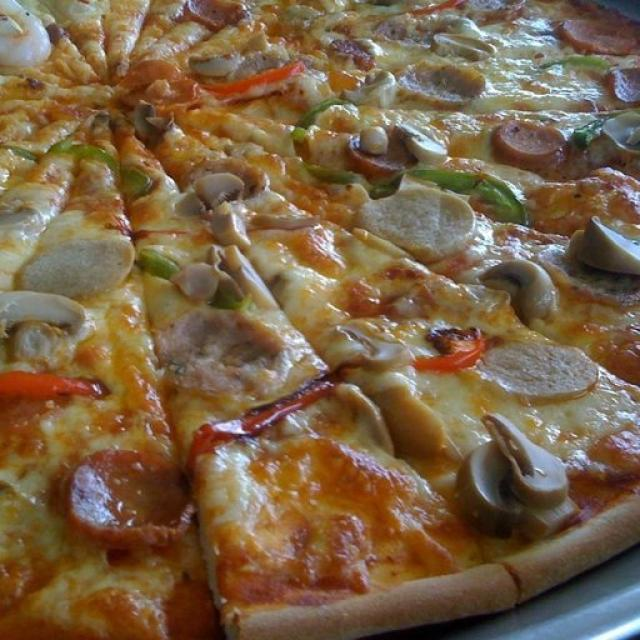Green Pepper: (0, 139, 154, 190), (421, 162, 528, 220), (299, 94, 335, 139), (539, 56, 608, 72), (142, 247, 177, 277), (212, 289, 264, 307)
Ham: (167, 314, 284, 392), (489, 342, 595, 397), (367, 193, 470, 248), (31, 242, 130, 291)
Mushrooms: (469, 414, 578, 527), (189, 170, 316, 238), (0, 296, 88, 371), (485, 252, 557, 314), (427, 10, 493, 59), (578, 222, 640, 264), (182, 46, 278, 66), (177, 259, 214, 299)
Pepperoni: (71, 452, 190, 540), (349, 121, 414, 169), (563, 14, 632, 51), (496, 122, 557, 163)
Pizza: (0, 0, 640, 640)
Red Pepper: (193, 362, 354, 443), (213, 64, 302, 96), (5, 373, 109, 400), (413, 328, 486, 362)
